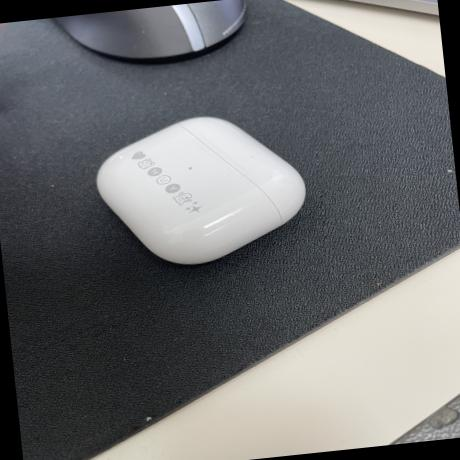airpod3: (76, 96, 328, 280)
